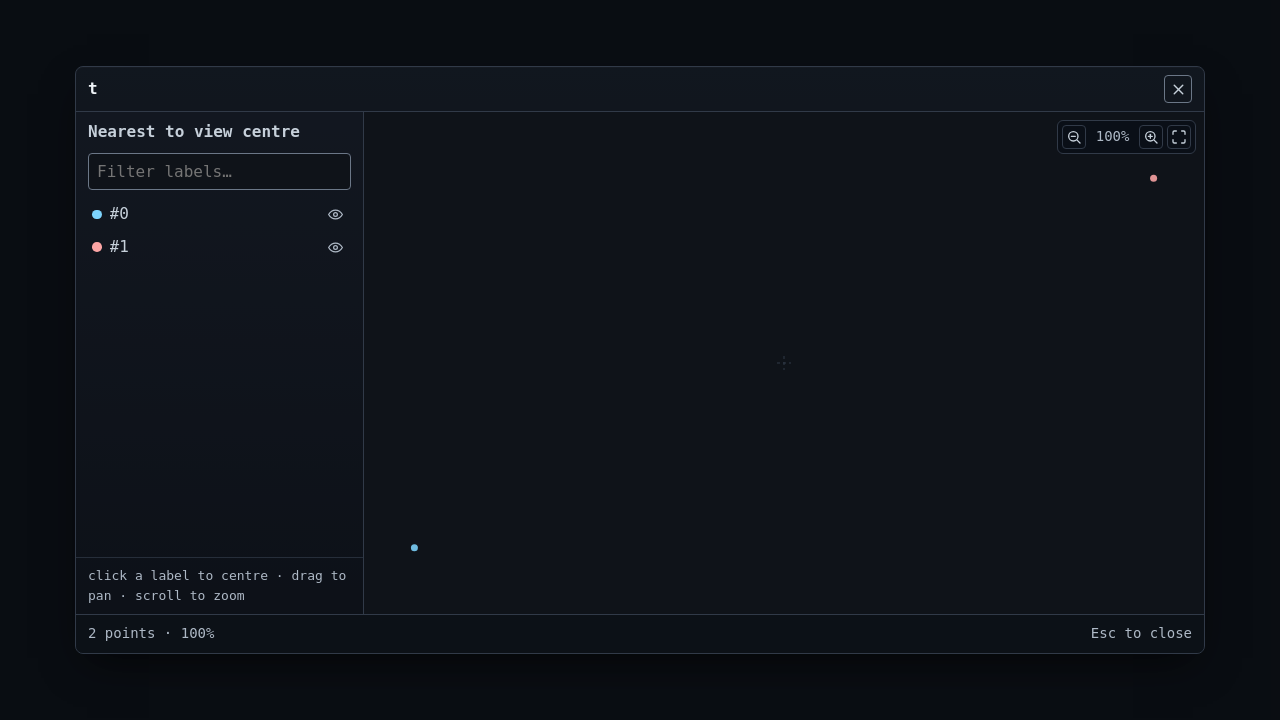
ScatterModal — sidebar list › falls back to "#index" labels and default colour when a point has no label/cluster
Expected: the text "#0" is shown, [110, 204, 129, 223]
// A label query still evaluates the "#index" fallback for unlabeled points.
Step 1. Type "#1" into the field with placeholder "Filter labels…" → (220, 172), box [88, 153, 351, 190]
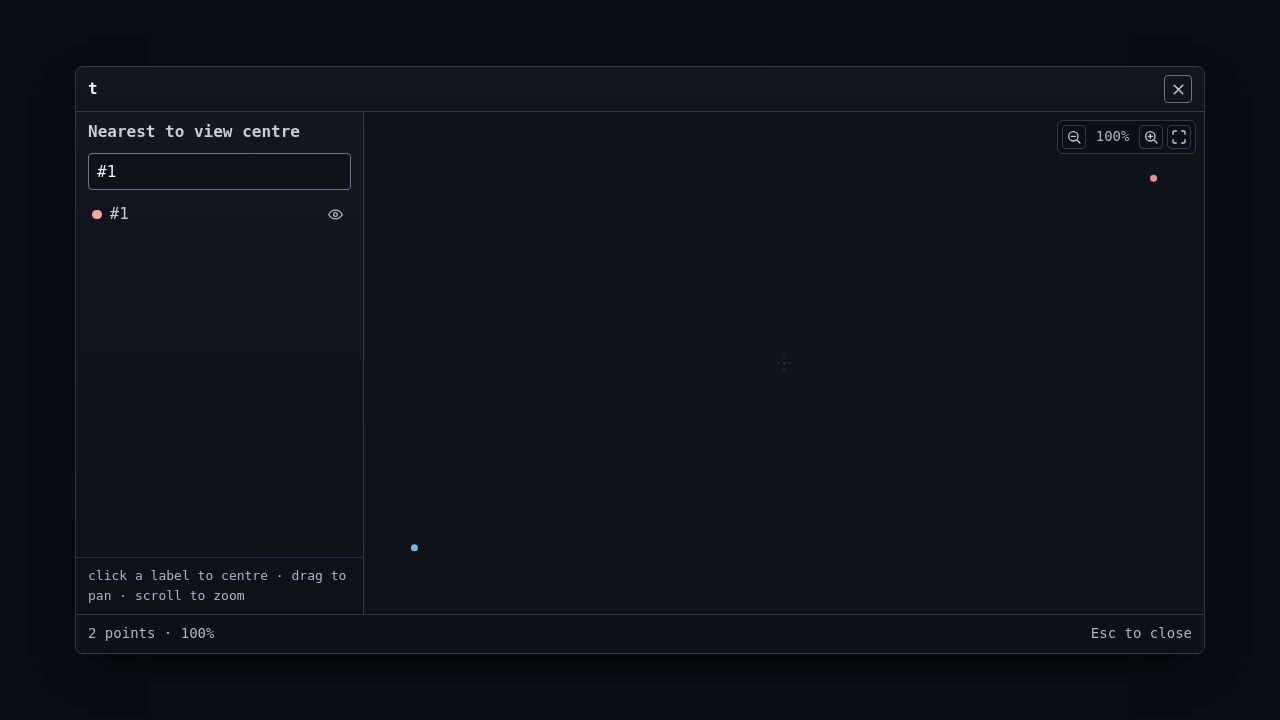
Expected: the text "#1" is shown, [110, 204, 129, 223]
Expected: the text "#0" is gone
